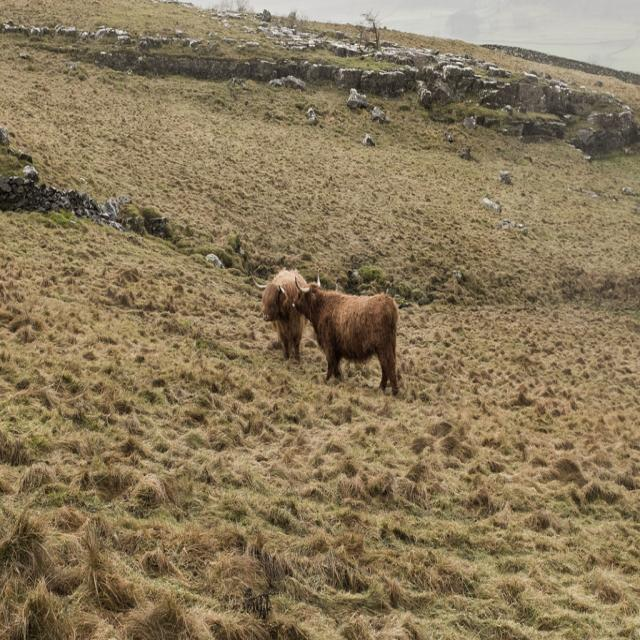Cattle: (293, 268, 400, 398), (250, 266, 308, 360)
